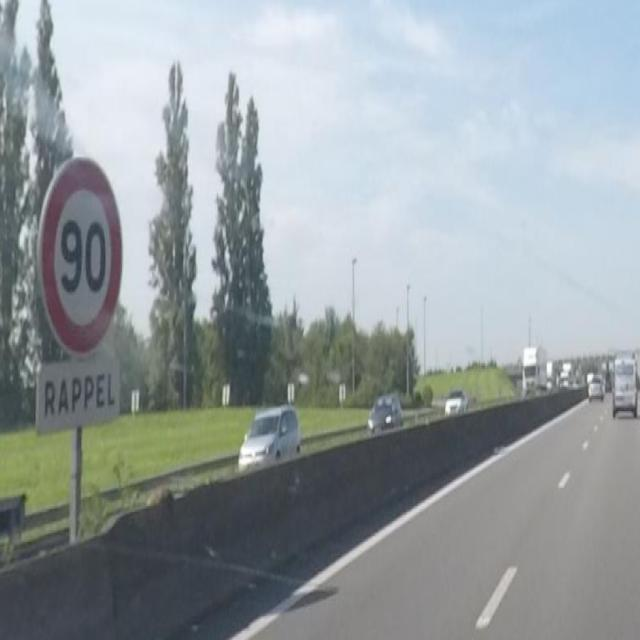speed_90: (41, 155, 122, 355)
